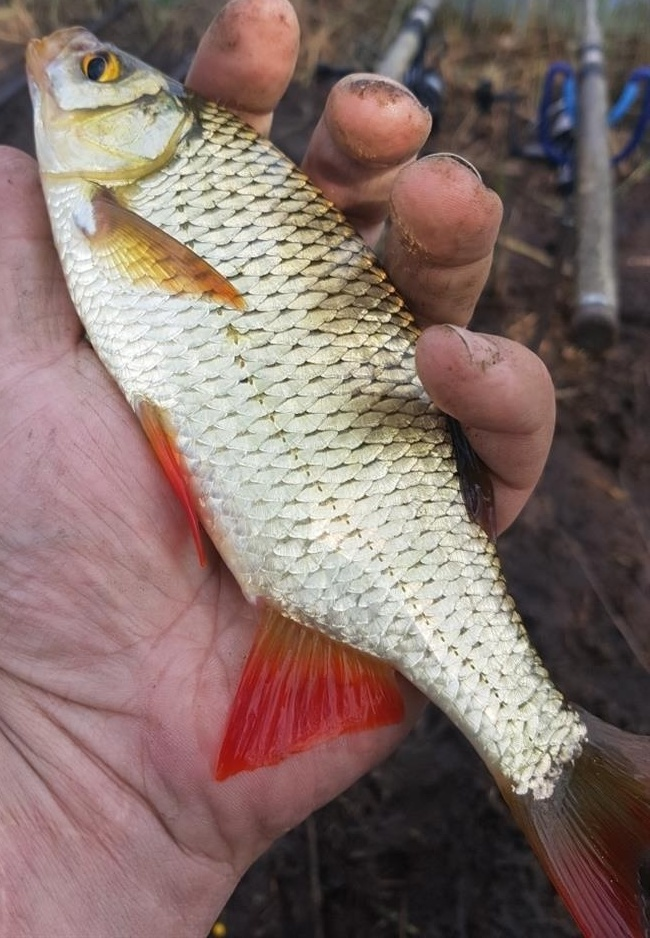Scardinius erythrophthalmus: (20, 20, 650, 934)
